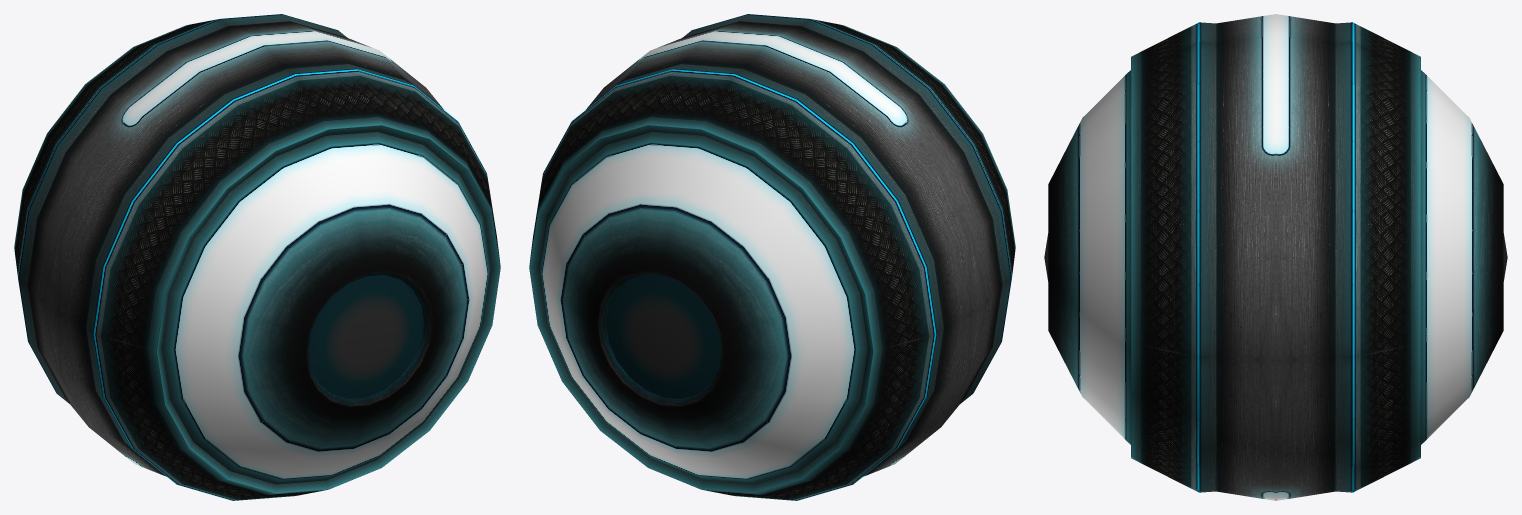
File: M_Player-Ball_01.FBX
3 renders of one model, left to right at view 1: azimuth 30°, elevation 25°; view 2: azimuth 150°, elevation 25°; view 3: azimuth 270°, elevation 25°, orthographic.
Parts seen in each view (by area): view 1: M_Player-Ball_01; view 2: M_Player-Ball_01; view 3: M_Player-Ball_01.
Boxes of the visible parts, bbox=[...] form: M_Player-Ball_01: bbox=[14, 14, 500, 500]; M_Player-Ball_01: bbox=[529, 14, 1015, 500]; M_Player-Ball_01: bbox=[1044, 14, 1507, 500].
Bounding box in the file's own units: 5.19 × 5.19 × 4.9.
